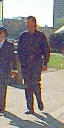person: (14, 13, 51, 115)
